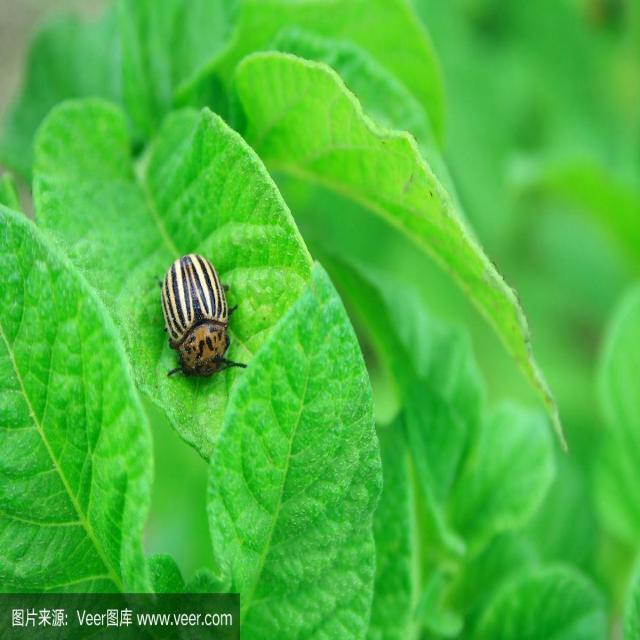ShuCaiHuaBanChong-Grown-: (152, 240, 240, 390)
